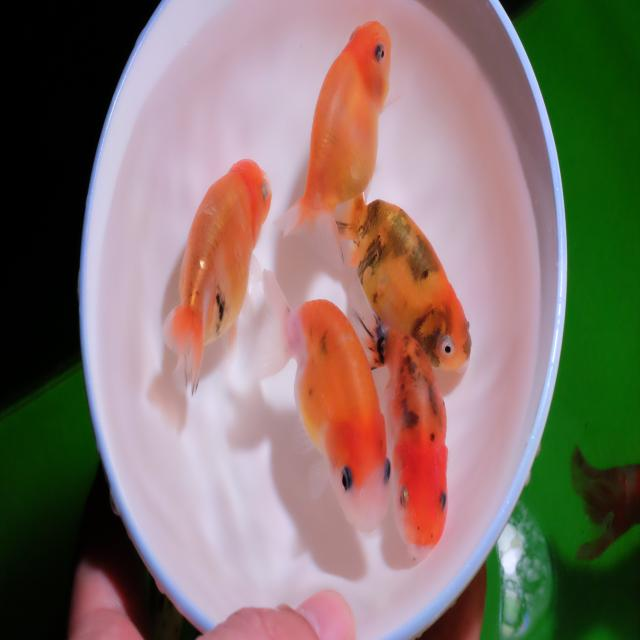Goldfish: (254, 268, 392, 534), (273, 19, 392, 270), (161, 157, 273, 397), (335, 191, 472, 373), (354, 311, 448, 556), (570, 443, 640, 562)
